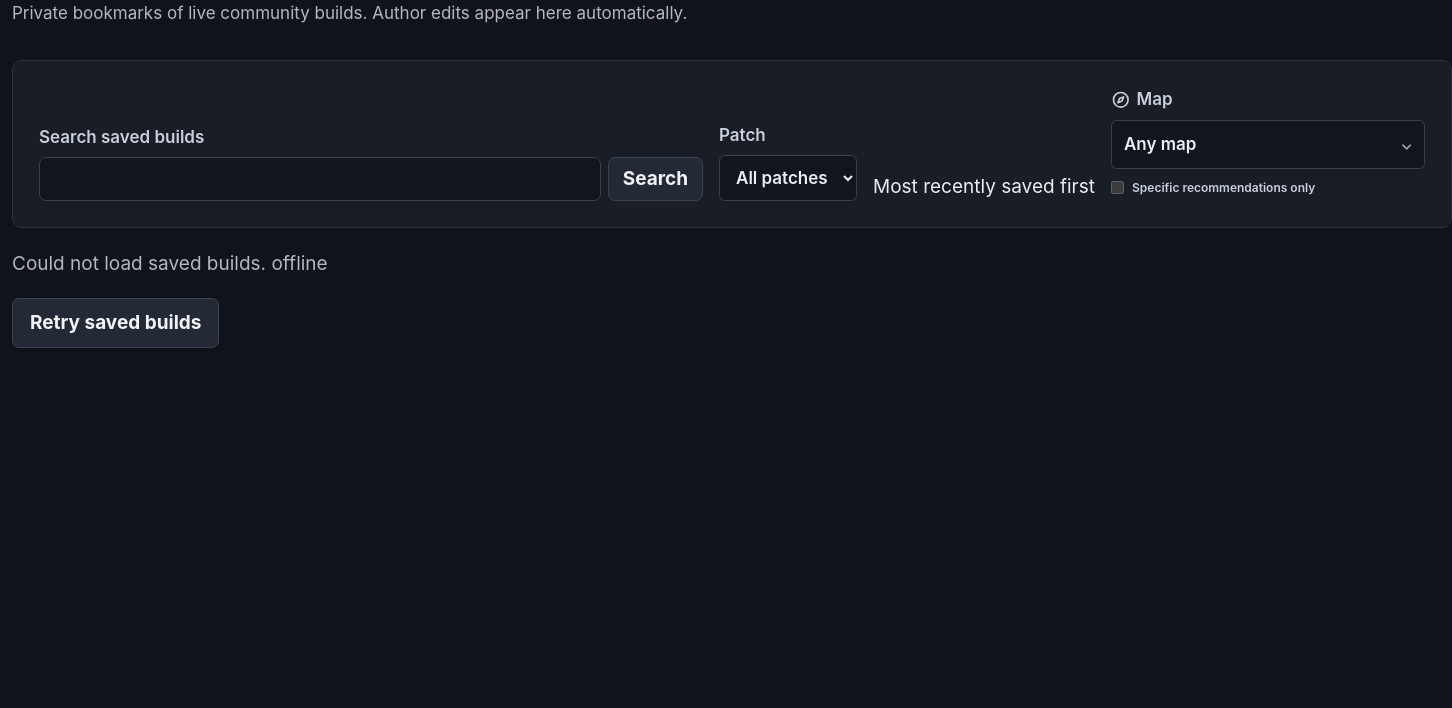
Test: retries list failures and uses page stats without per-card requests
The image size is (1452, 708).
What coordinates should you click on to do the following:
click the button "Retry saved builds"
I would click on:
 (116, 323)
Its box is [12, 298, 219, 348].
(page scrolled)
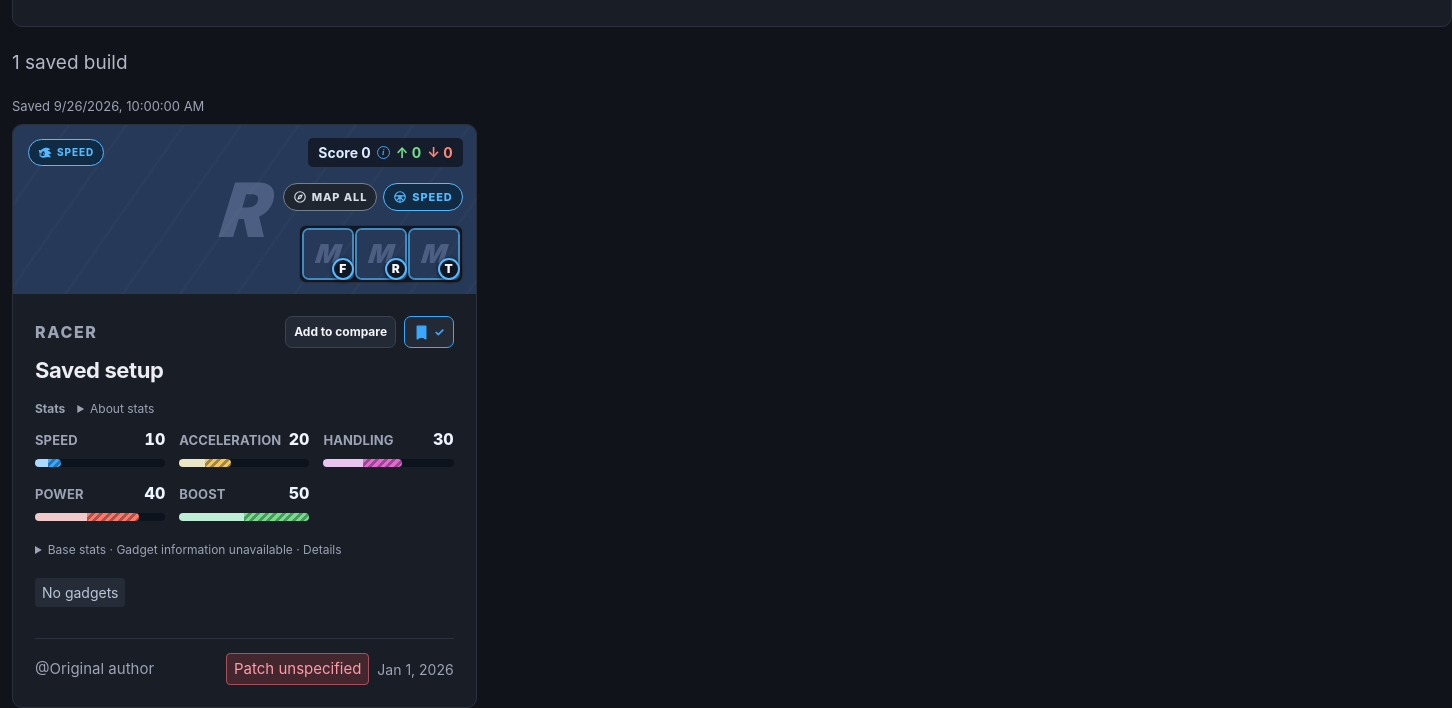
Now the link "Saved setup" is shown, box [35, 358, 163, 384]
Now the text "@Original author" is shown, box [35, 659, 154, 678]
